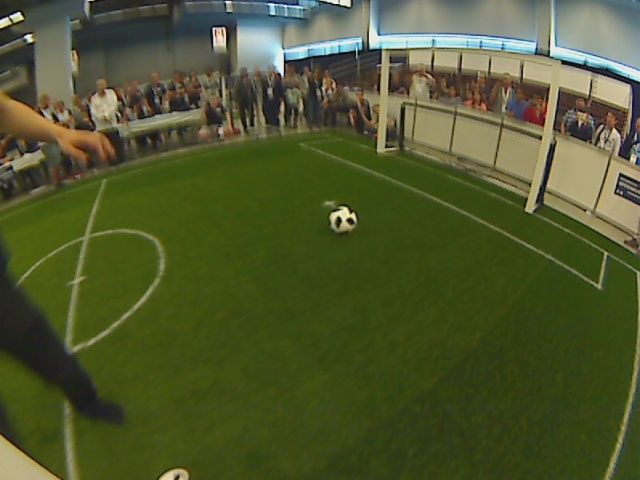ball: (325, 204, 359, 234)
